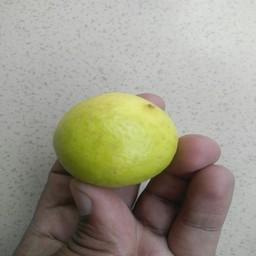Good_lime: (49, 83, 183, 189)
